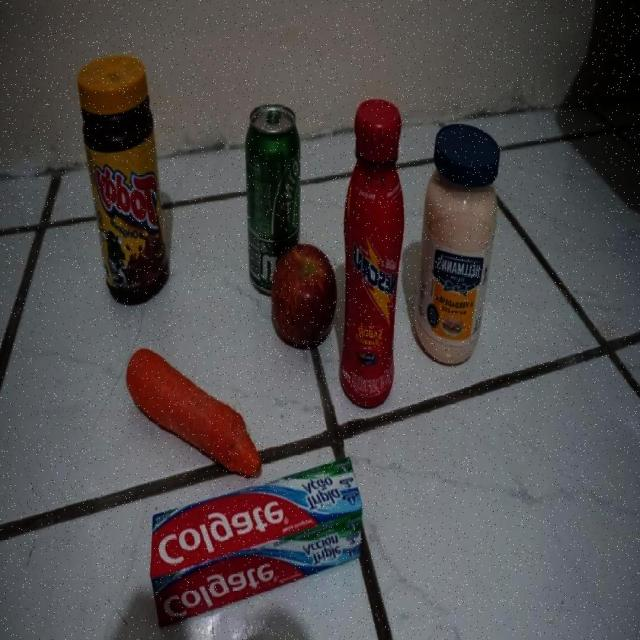Apple: (271, 245, 336, 348)
BeerCan: (243, 103, 301, 296)
Carrot: (124, 345, 262, 477)
ChocolateMilk: (340, 96, 404, 409)
ChocolatePowder: (77, 56, 168, 304)
Mayonnaise: (414, 122, 501, 369)
Toothpaste: (150, 458, 364, 626)
